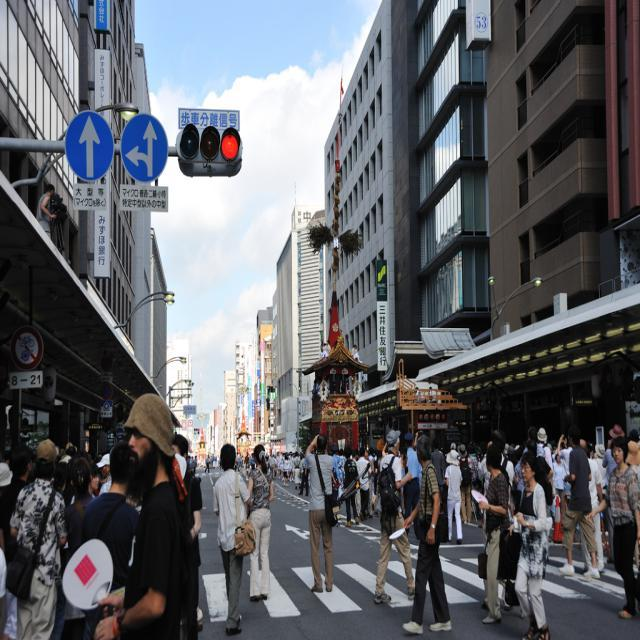road_sign: (120, 110, 168, 188), (64, 113, 112, 179)
traffic light: (171, 125, 244, 169)
